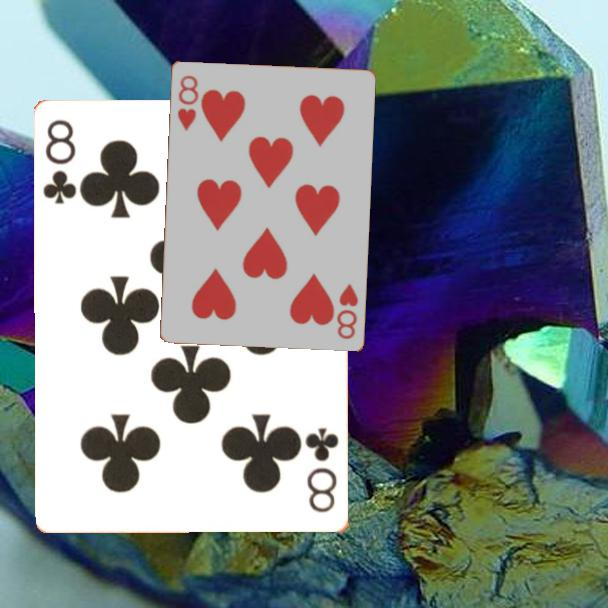c08: (302, 424, 342, 515), (40, 117, 80, 208)
h08: (333, 280, 361, 342), (174, 72, 201, 133)
